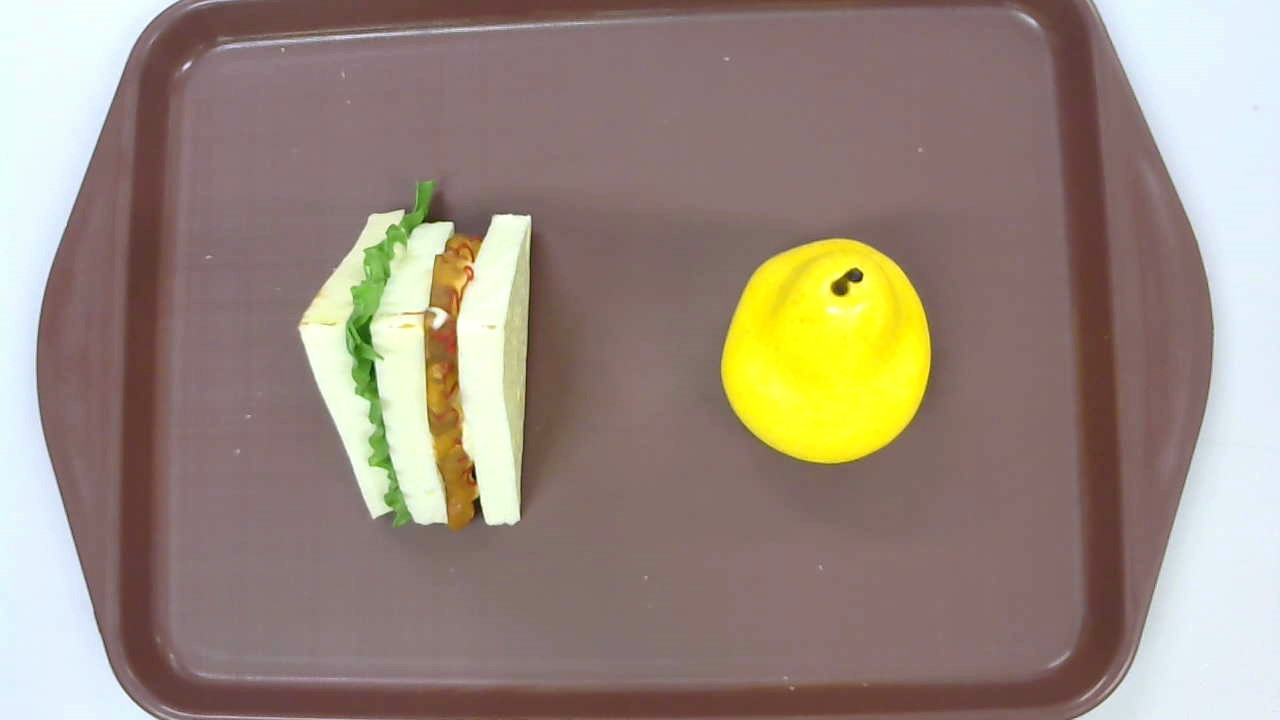sandwich: (297, 180, 532, 528)
yellow pear: (721, 237, 930, 463)
